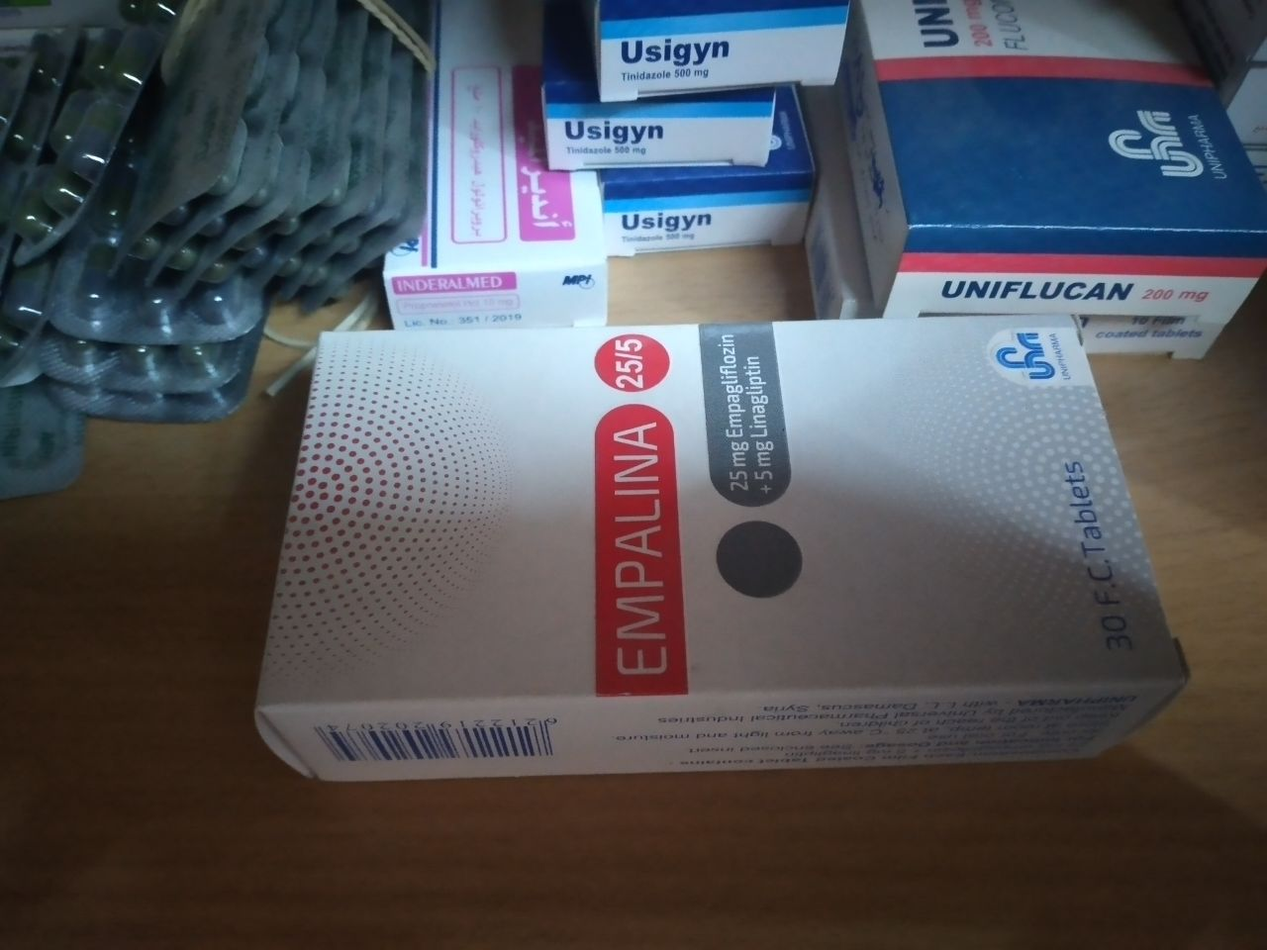Medicine: (245, 317, 1193, 814), (856, 0, 1267, 356), (398, 10, 599, 327), (525, 12, 784, 183), (574, 2, 861, 114), (596, 168, 861, 270)
